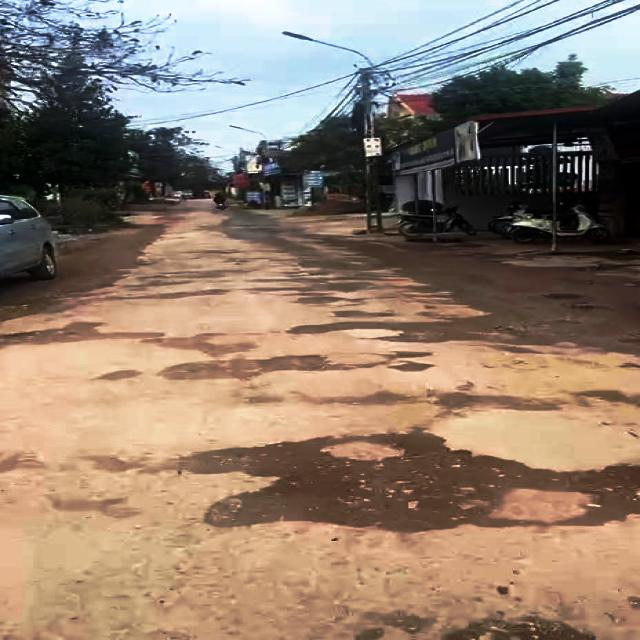pothole: (154, 426, 640, 532), (279, 307, 517, 346), (146, 352, 363, 380), (363, 384, 560, 414), (0, 316, 164, 344), (441, 614, 603, 640), (108, 286, 229, 303), (284, 292, 352, 306)
